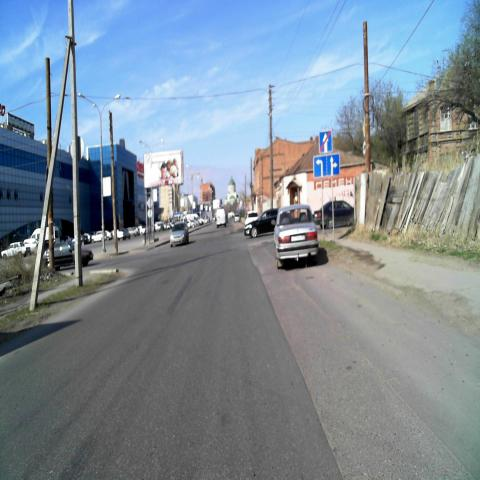5_6: (319, 131, 332, 153)
